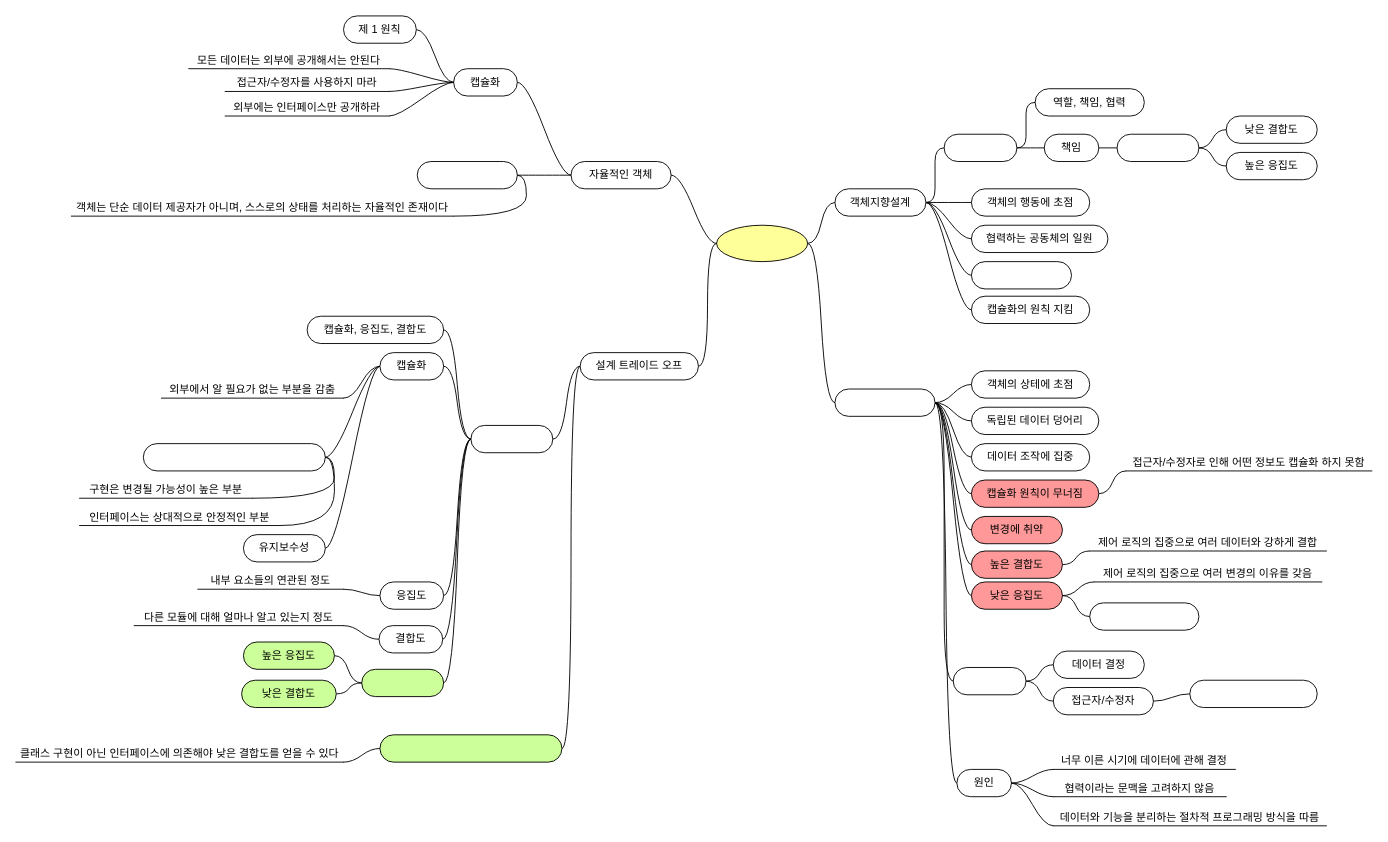
Image size: 1388x842. Some labels were removed from this diagram. Here are the shapes that lost their labels. From the top down, the centre of each, then its label:
[980,147]: 핵심요소
[1157,147]: 책임 할당
[466,175]: 스스로를 책임
[762,243]: 설계 품질과 트레이드오프
[1021,275]: 책임 분할 중심
[884,402]: 데이터중심설계
[233,457]: 구현을 숨기고 인터페이스를 노출
[511,439]: 품질 척도
[1144,616]: 단일 책임의 원칙
[402,682]: 좋은 설계
[989,681]: 설계방법
[1253,693]: 추측에 의한 설계 전략
[470,748]: 인터페이스에 대해 프로그래밍하라
